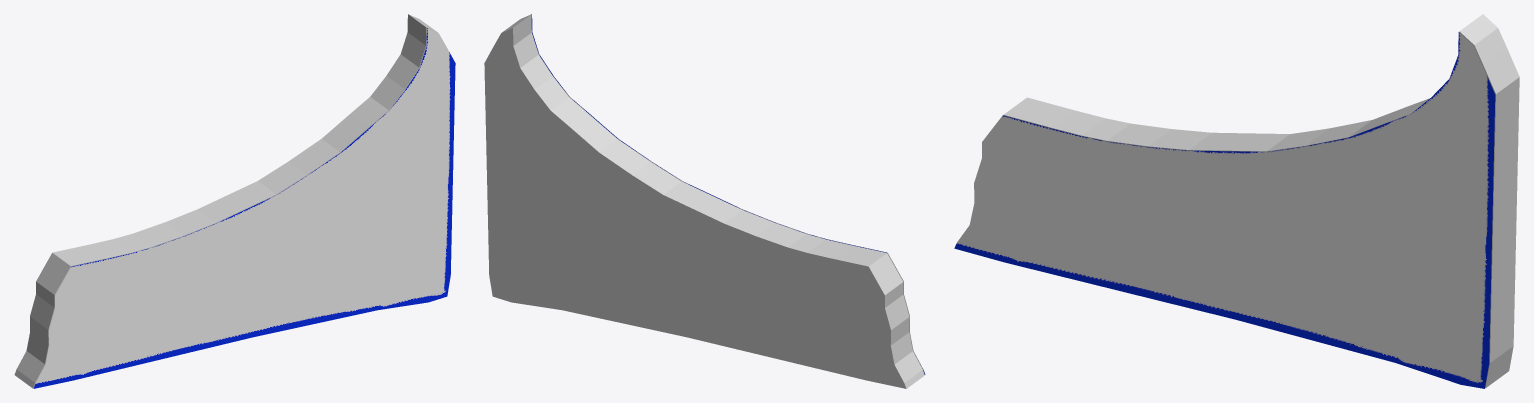
The picture shows the model from 3 angles, left to right: view 1: azimuth 30°, elevation 25°; view 2: azimuth 150°, elevation 25°; view 3: azimuth 330°, elevation 25°; orthographic projection. The views are drawn at different scales.
Parts seen in each view (by area): view 1: Out_2_1, Out_2_0; view 2: Out_2_0, Out_2_1; view 3: Out_2_1, Out_2_0.
Part boxes in pixels (x1,y1,x2,y2): Out_2_1: [33, 28, 455, 388]; Out_2_0: [14, 14, 437, 388]; Out_2_0: [484, 14, 924, 388]; Out_2_1: [521, 14, 925, 374]; Out_2_1: [954, 32, 1495, 388]; Out_2_0: [1003, 14, 1519, 388].
Size of the model in its own units: 6.59 by 4.1 by 0.515.
Materials: 2 (1 with a texture image).
